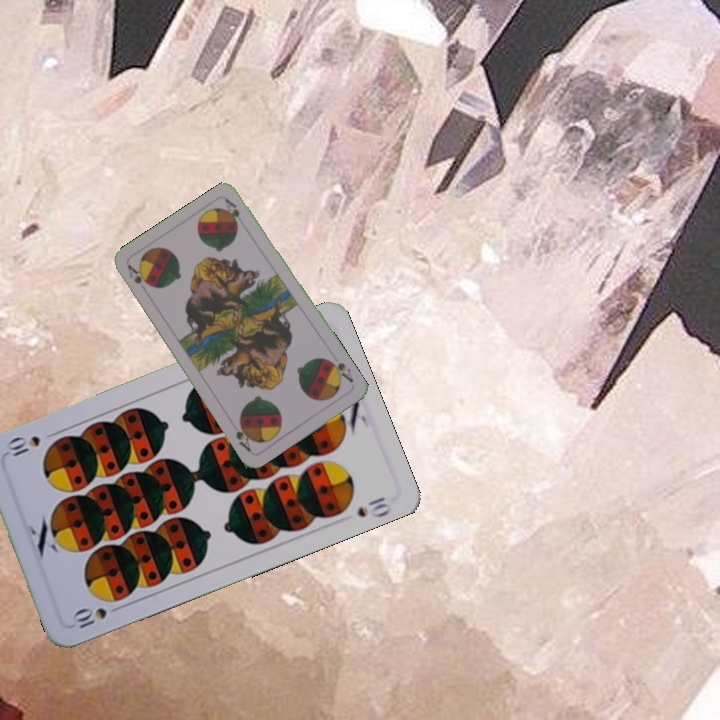S10: (67, 594, 125, 631)
SA: (123, 260, 155, 290), (324, 356, 356, 385)
